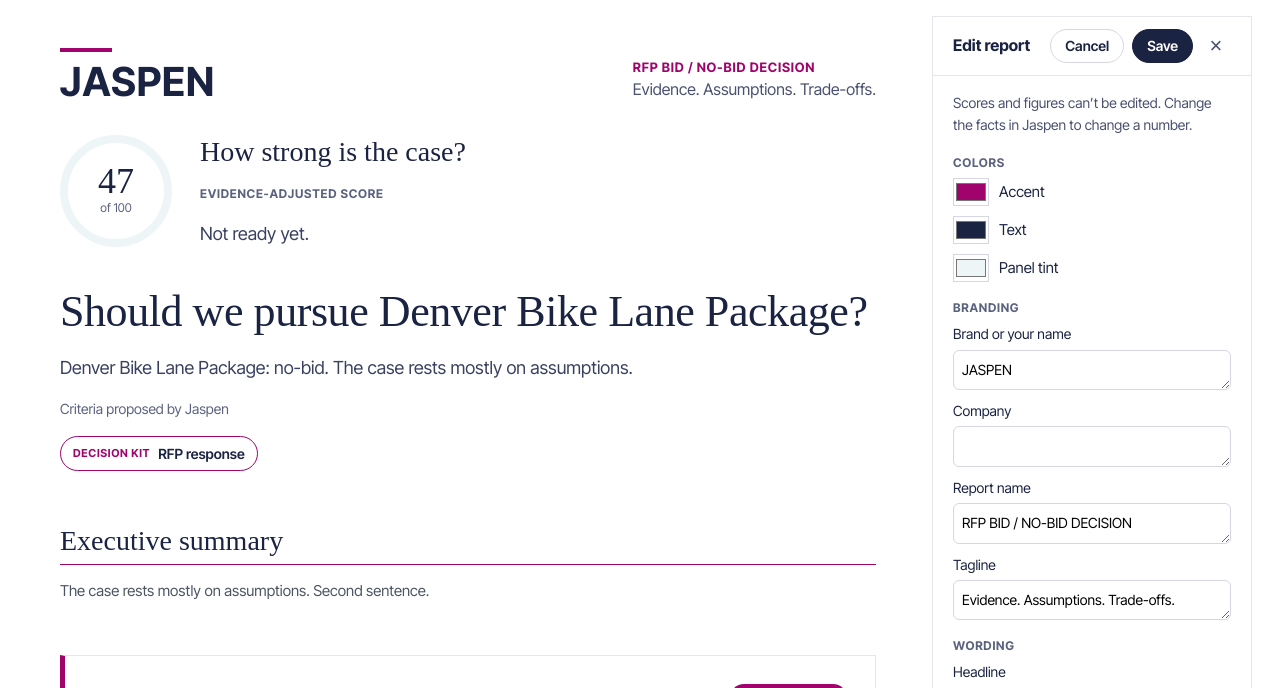
a refused save is explained inside the editor in plain words
Click the button "Save" at (1163, 46), box [1132,29,1193,63]
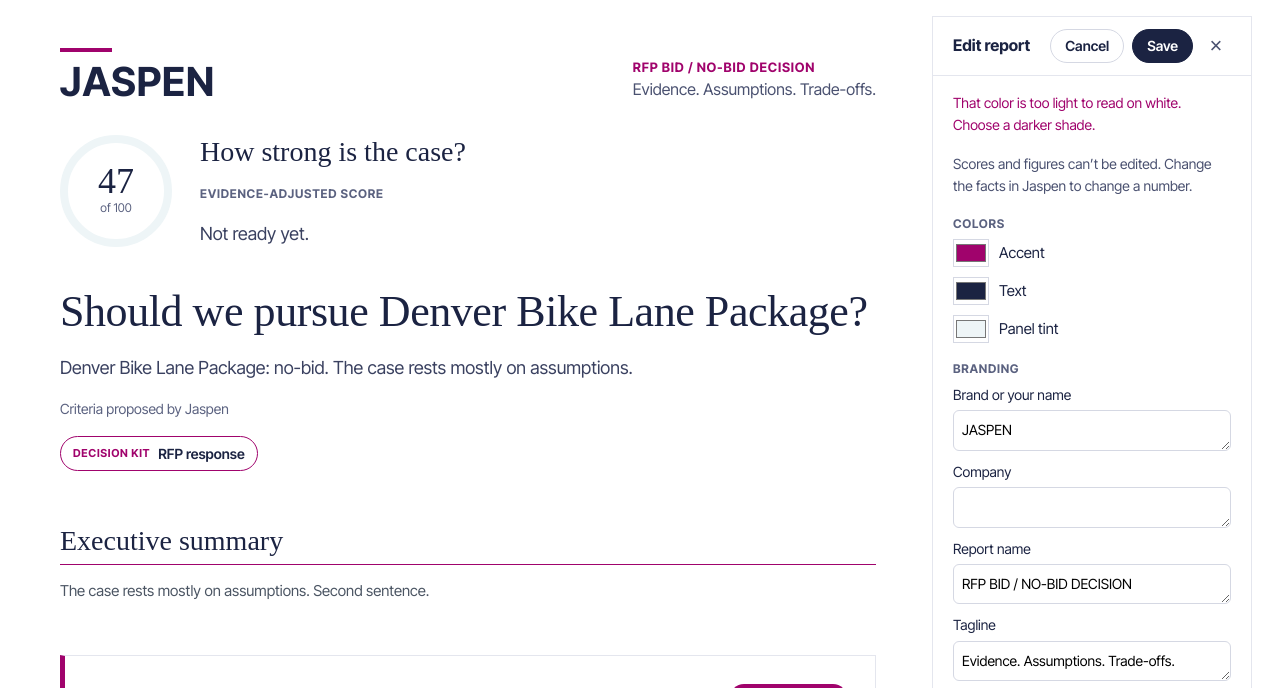
Expected: the text "That color is too light to read on white. Choose a darker shade." is shown, [953,94,1181,133]
